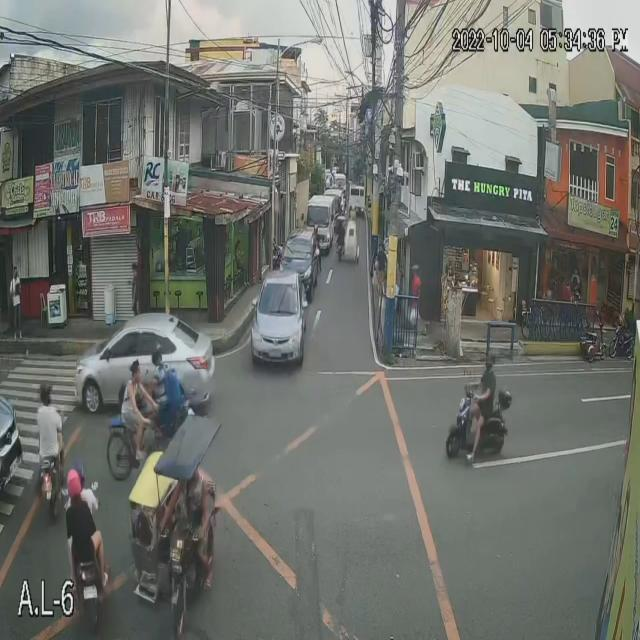full: (151, 340, 164, 365)
half: (37, 375, 54, 408), (66, 470, 82, 496)
invalid: (484, 353, 494, 373)
